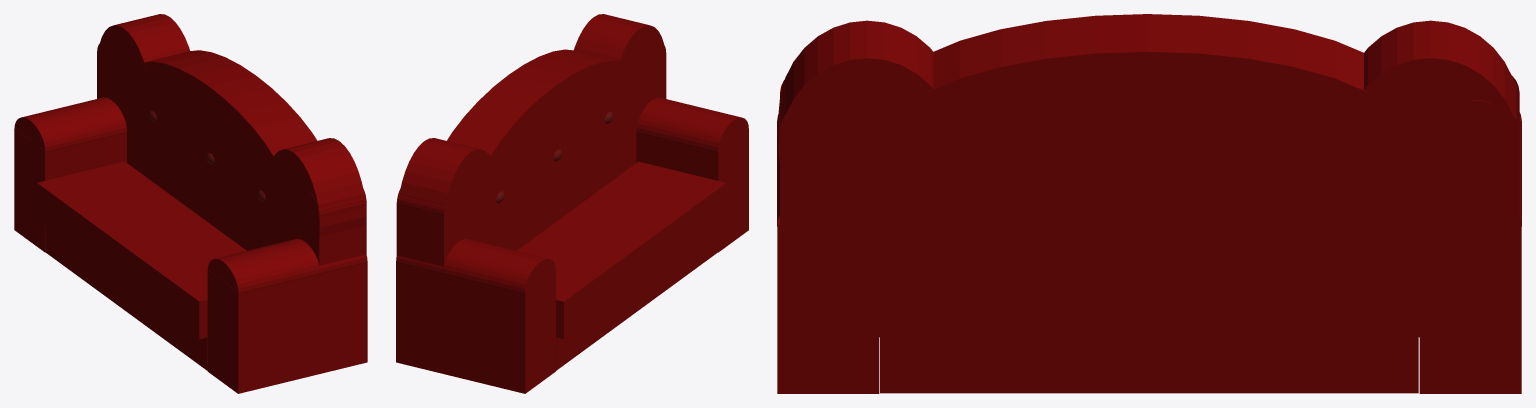
Rendered from Sillon2.obj.
The picture shows the model from 3 angles, left to right: view 1: azimuth 30°, elevation 25°; view 2: azimuth 150°, elevation 25°; view 3: azimuth 270°, elevation 25°; orthographic projection. The views are drawn at different scales.
Visible parts, largest first — view 1: Plano; view 2: Plano; view 3: Plano.
Boxes of the visible parts, x1=… form: Plano: x1=14, y1=14, x2=367, y2=393; Plano: x1=396, y1=14, x2=748, y2=393; Plano: x1=777, y1=14, x2=1521, y2=393.
Size of the model in its own units: 2.13 by 3.04 by 6.
1 material, 1 textured.
